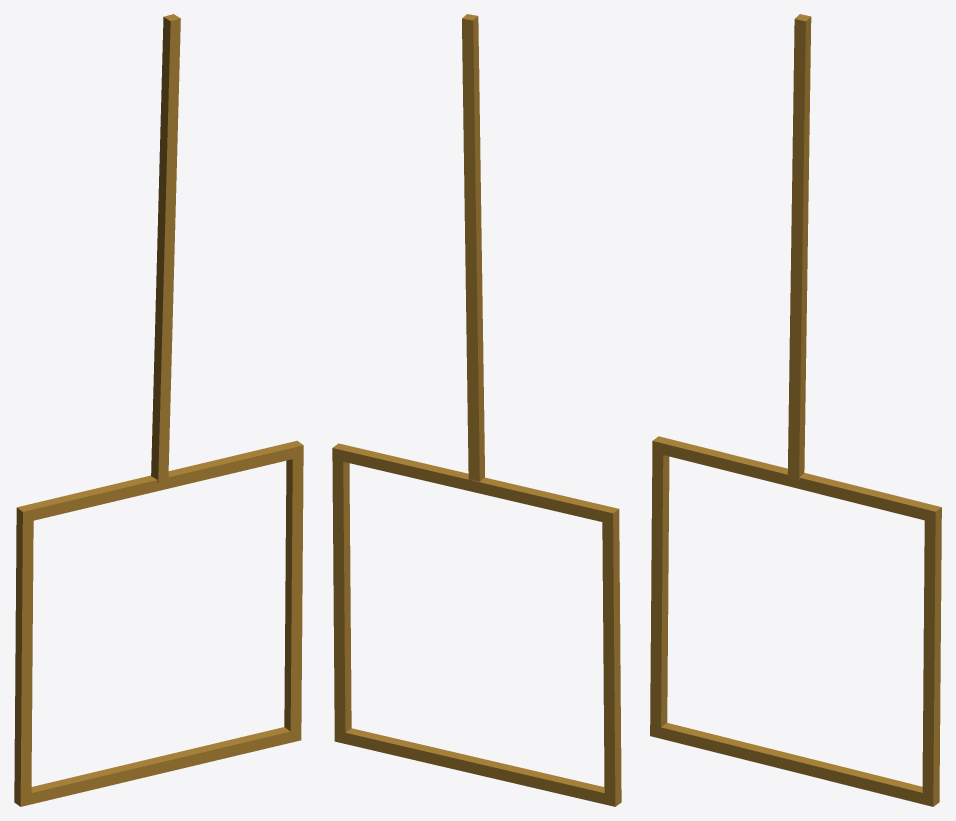
Rendered from gate2016.fbx.
3 renders of one model, left to right at view 1: azimuth 30°, elevation 25°; view 2: azimuth 150°, elevation 25°; view 3: azimuth 330°, elevation 25°, orthographic.
Parts seen in each view (by area): view 1: POLYFACE.660, POLYFACE.658; view 2: POLYFACE.660, POLYFACE.658; view 3: POLYFACE.660, POLYFACE.658.
Boxes of the visible parts, x1,y1,x2,y2 form: POLYFACE.660: (14, 440, 303, 806); POLYFACE.658: (151, 14, 180, 482); POLYFACE.660: (332, 443, 621, 806); POLYFACE.658: (462, 14, 484, 481); POLYFACE.660: (650, 436, 941, 806); POLYFACE.658: (787, 14, 811, 480).
Size of the model in its own units: 131 by 333 by 7.99.
